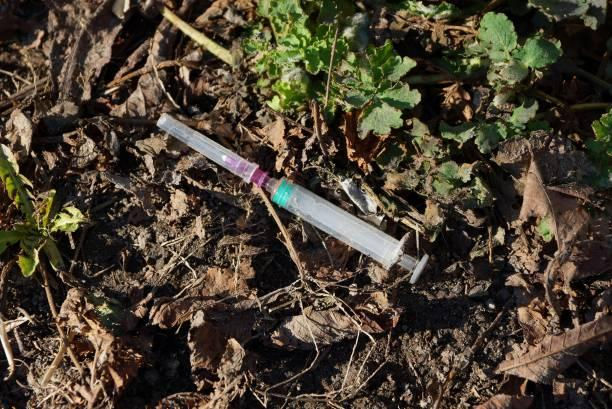Syringe: (157, 114, 427, 282)
